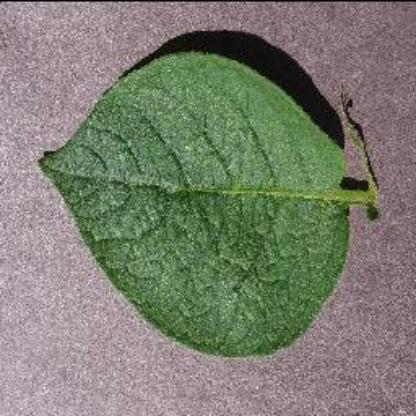Healthy-plant: (26, 44, 376, 364)
